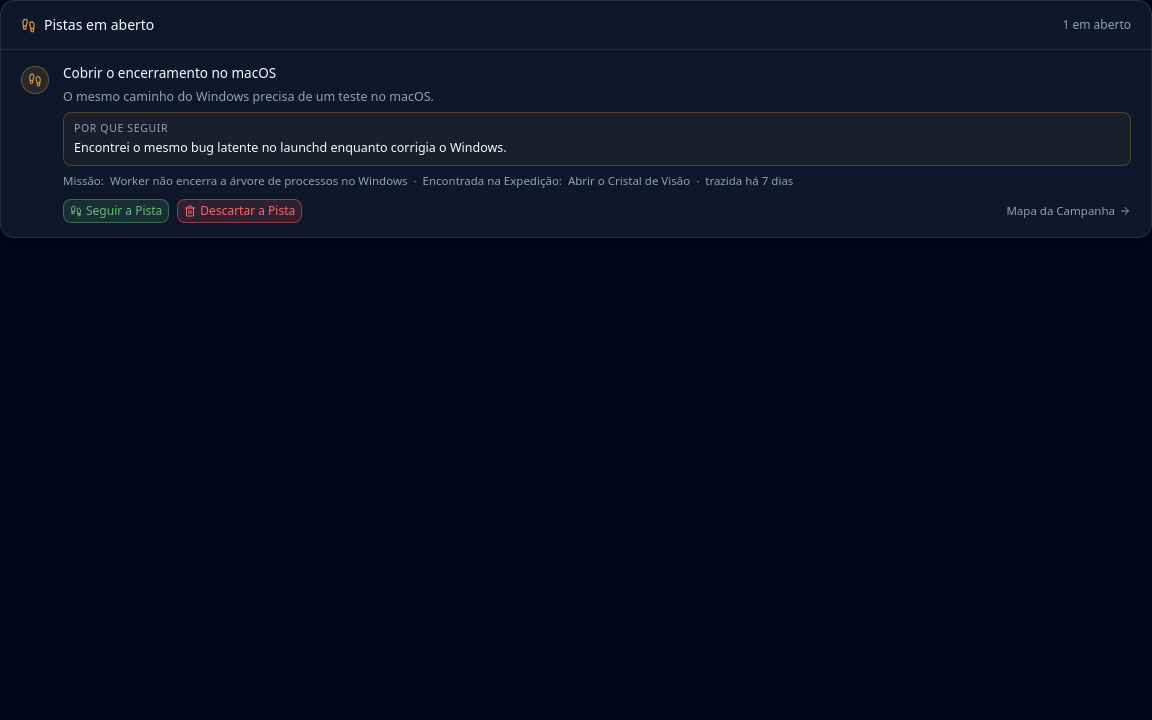
Test: propostas abertas › recusar abre a confirmação e nada é enviado antes dela
Check: the text "Cobrir o encerramento no macOS" is shown, box [63,64,276,82]
Click the button "Descartar a Pista".
click(240, 211)  # box [177,199,302,223]
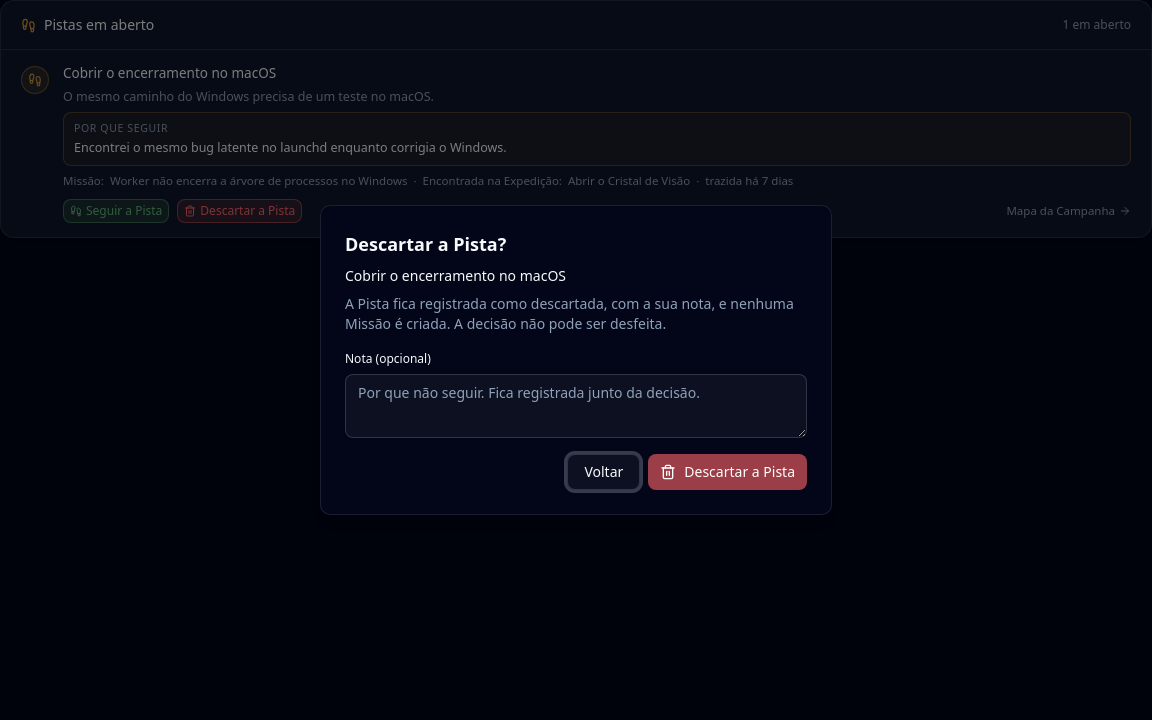
Check: the dialog shows "Descartar a Pista?", box [345,232,506,256]
Check: the dialog shows "A Pista fica registrada como descartada, com a sua nota, e nenhuma Missão é criada. A decisão não pode ser desfeita.", box [345,294,794,333]
